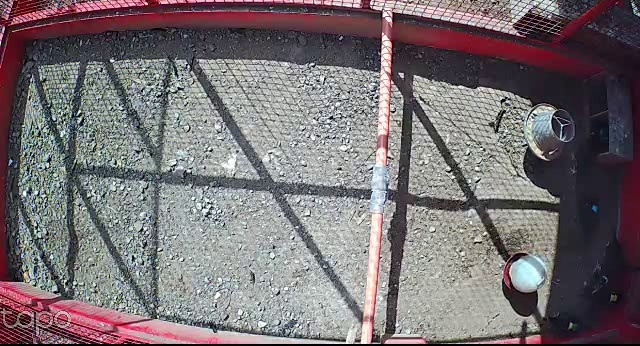Chicken: (552, 311, 596, 336)
Drinker: (503, 251, 548, 294)
Feeder: (523, 103, 576, 161)
Saddle_Color_Blue: (591, 204, 599, 212)
Saddle_Color_YellowGreen: (568, 322, 576, 330)
